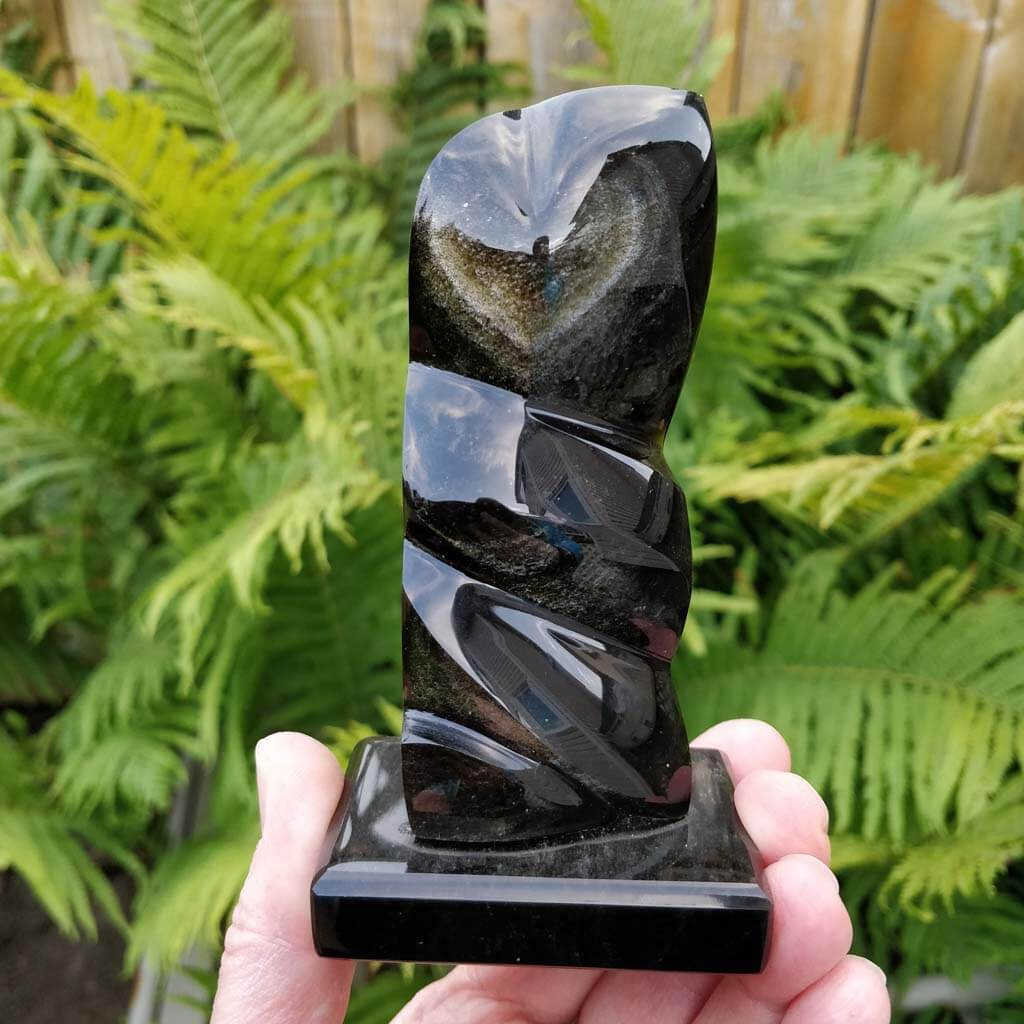Obsidian: (308, 80, 774, 974)
